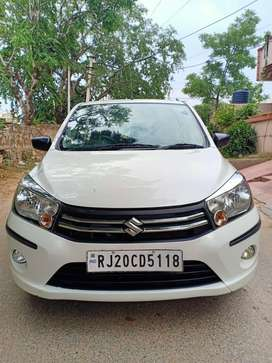RJ20CD5118: (87, 250, 183, 272)
